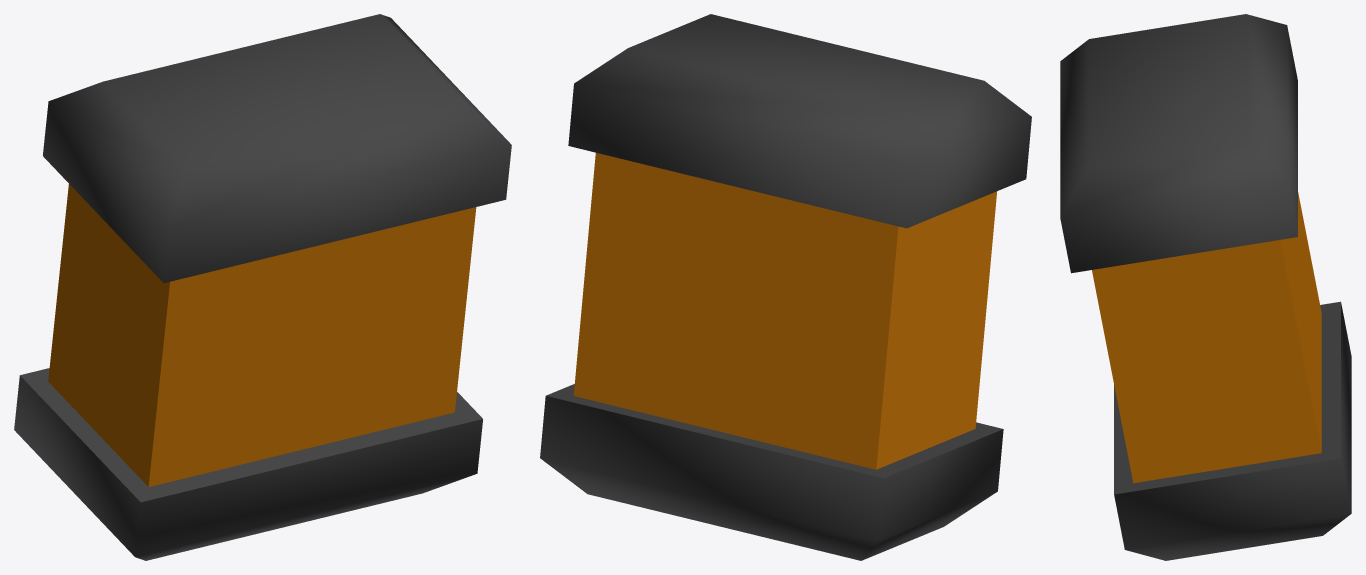
The model's file is SM_Led.fbx.
3 views of the same model, side by side, from view 1: azimuth 30°, elevation 25°; view 2: azimuth 150°, elevation 25°; view 3: azimuth 270°, elevation 25° (orthographic). The views are drawn at different scales.
Parts seen in each view (by area): view 1: Led; view 2: Led; view 3: Led.
Part boxes in pixels (box(x1,y1,x2,y2)): Led: box(14, 14, 511, 560); Led: box(540, 14, 1031, 560); Led: box(1060, 14, 1351, 560).
Size of the model in its own units: 0.1841 by 0.2303 by 0.1448.
